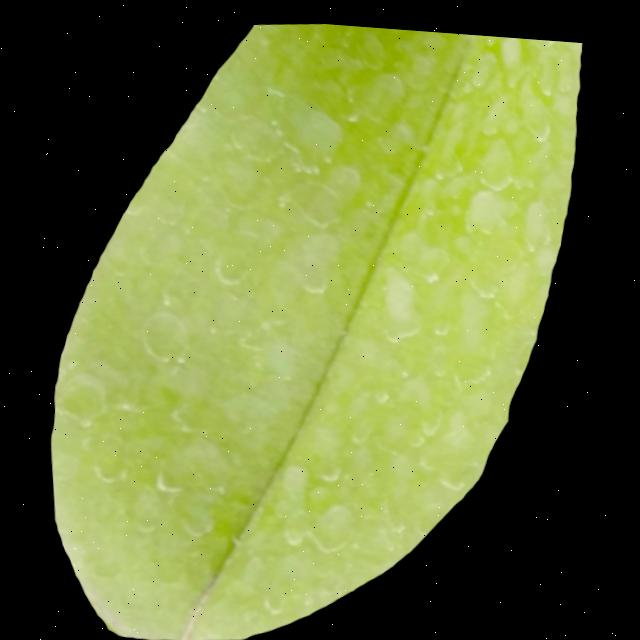mite: (262, 79, 347, 164), (374, 257, 425, 336), (139, 304, 193, 361), (307, 494, 362, 547), (461, 177, 514, 228), (259, 331, 304, 377), (181, 499, 219, 534), (211, 249, 249, 282), (496, 29, 526, 59), (153, 464, 184, 491)
spots: (16, 18, 628, 640)
